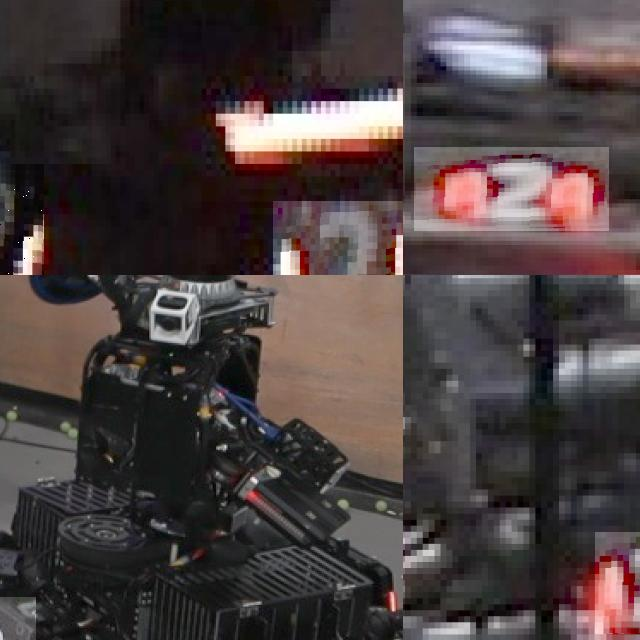R2: (414, 147, 609, 231), (273, 201, 403, 275), (0, 164, 44, 275), (594, 531, 640, 634)
